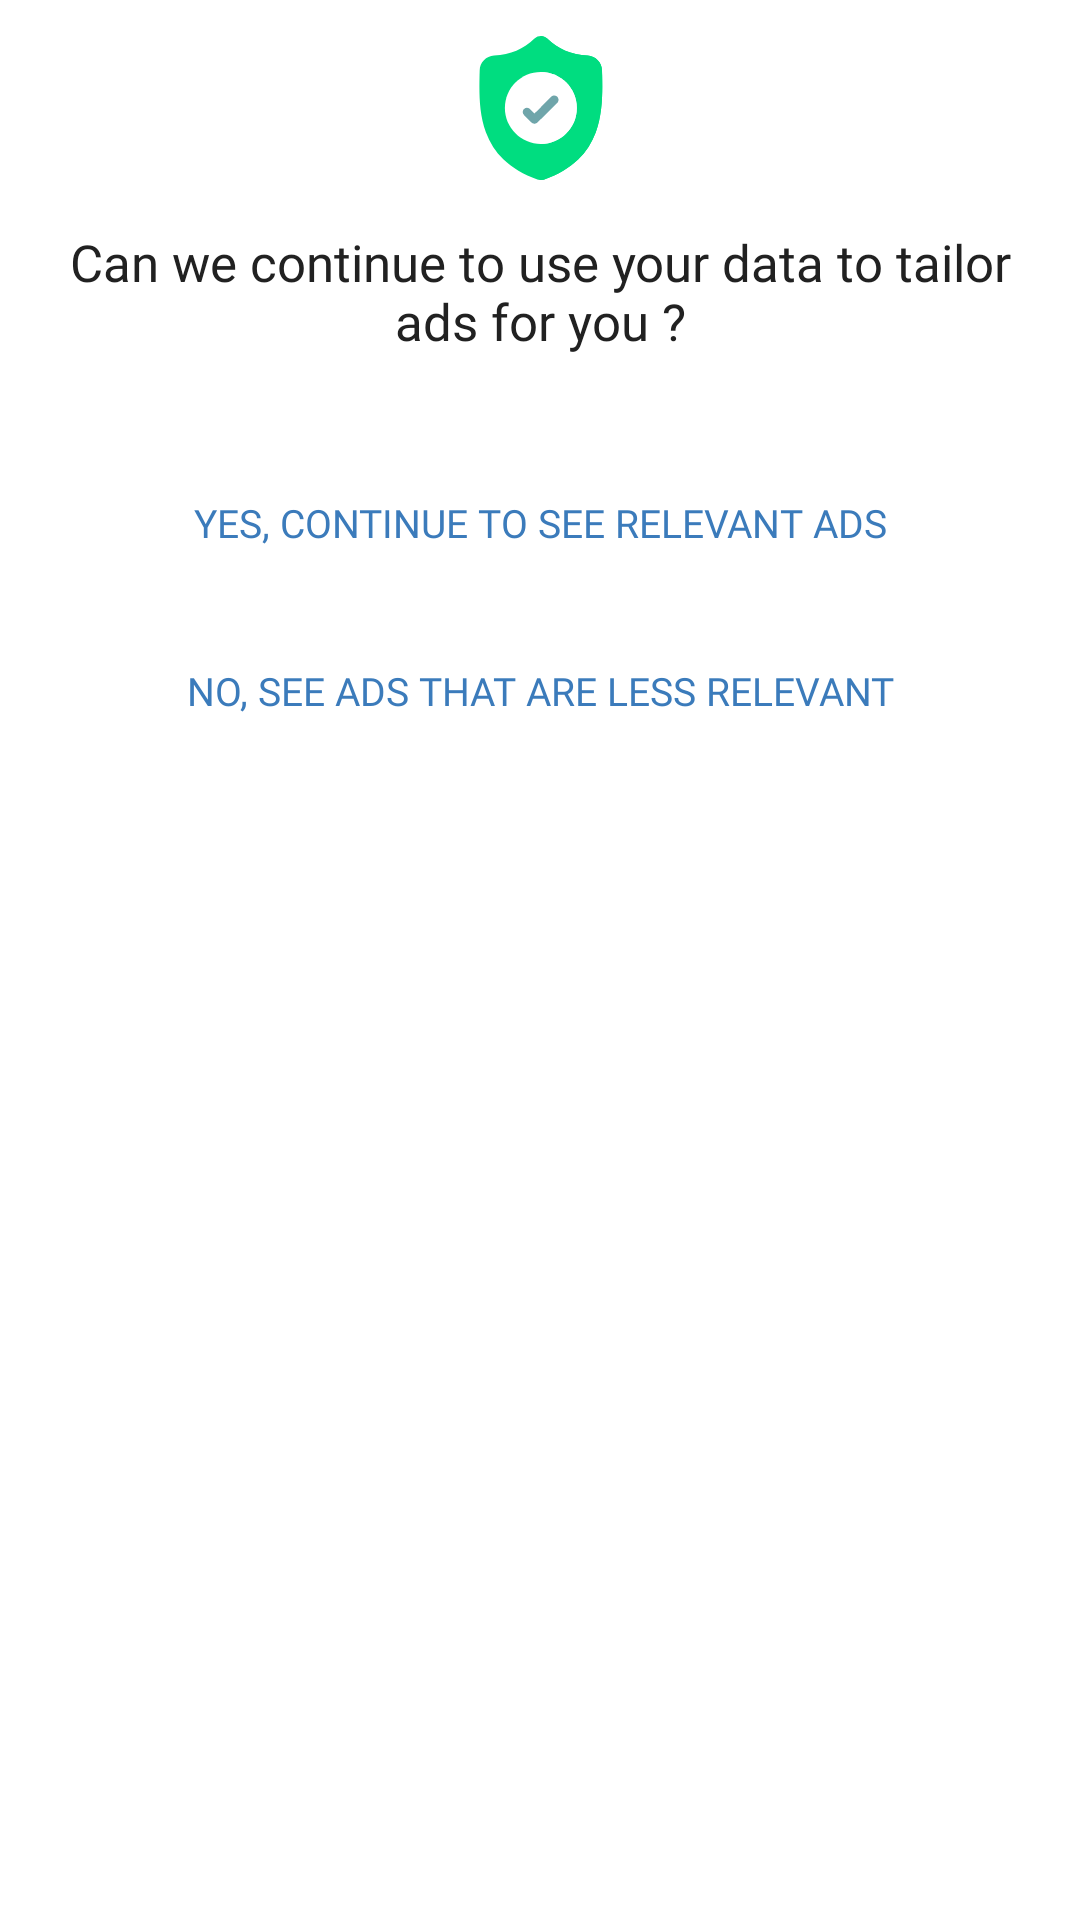

Named icons in this screenshot (1080w x 1920h) and their centers, (x=x, y=y):
shield: (x=541, y=108)
